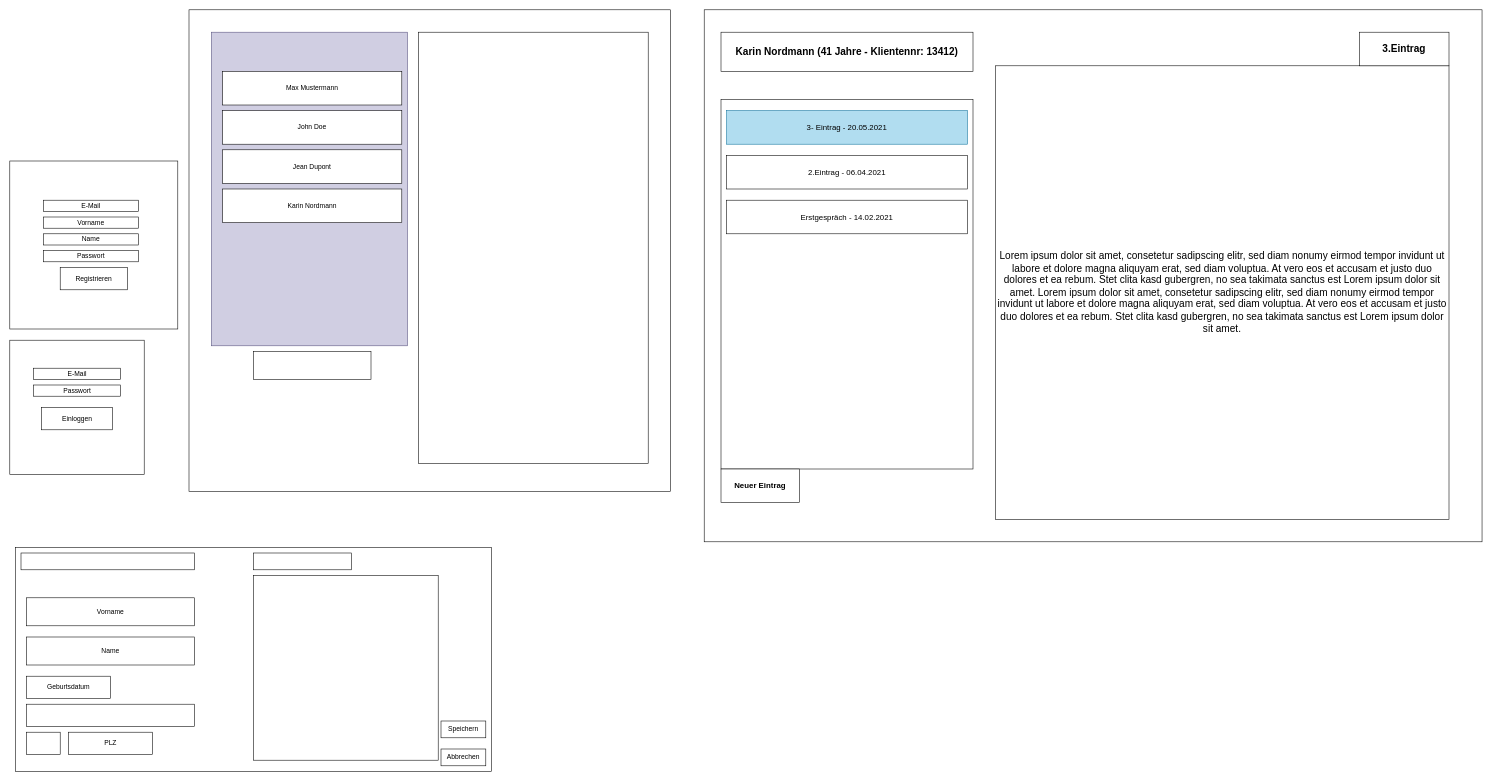
This 1492x781 diagram has some shape labels left out. Each missing label, with the box of its shape:
Erstgespräch: (253, 552, 351, 570)
Hausnr: (26, 732, 60, 755)
Klient hinzufügen: (253, 351, 371, 379)
Neuer Klient: (20, 552, 195, 570)
Straße: (26, 704, 195, 727)
